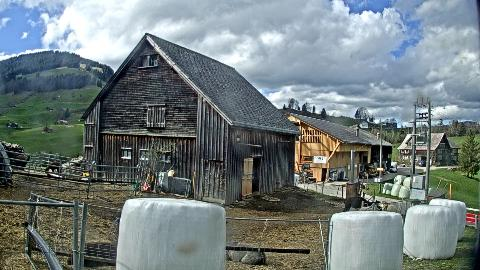car: (389, 166, 397, 172), (418, 161, 426, 167)
sheep: (68, 240, 118, 266), (225, 241, 266, 265), (344, 196, 380, 212), (15, 155, 31, 171), (44, 162, 62, 176), (378, 201, 398, 213), (410, 200, 426, 208), (359, 207, 375, 211)
